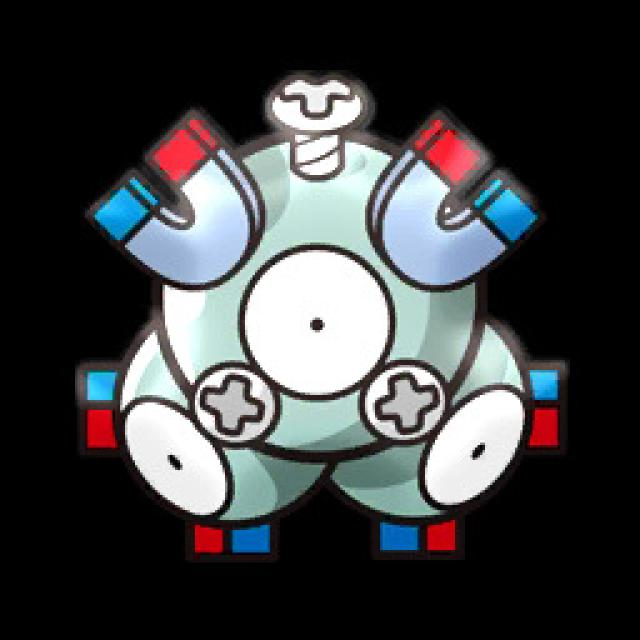Magneton: (81, 76, 566, 561)
